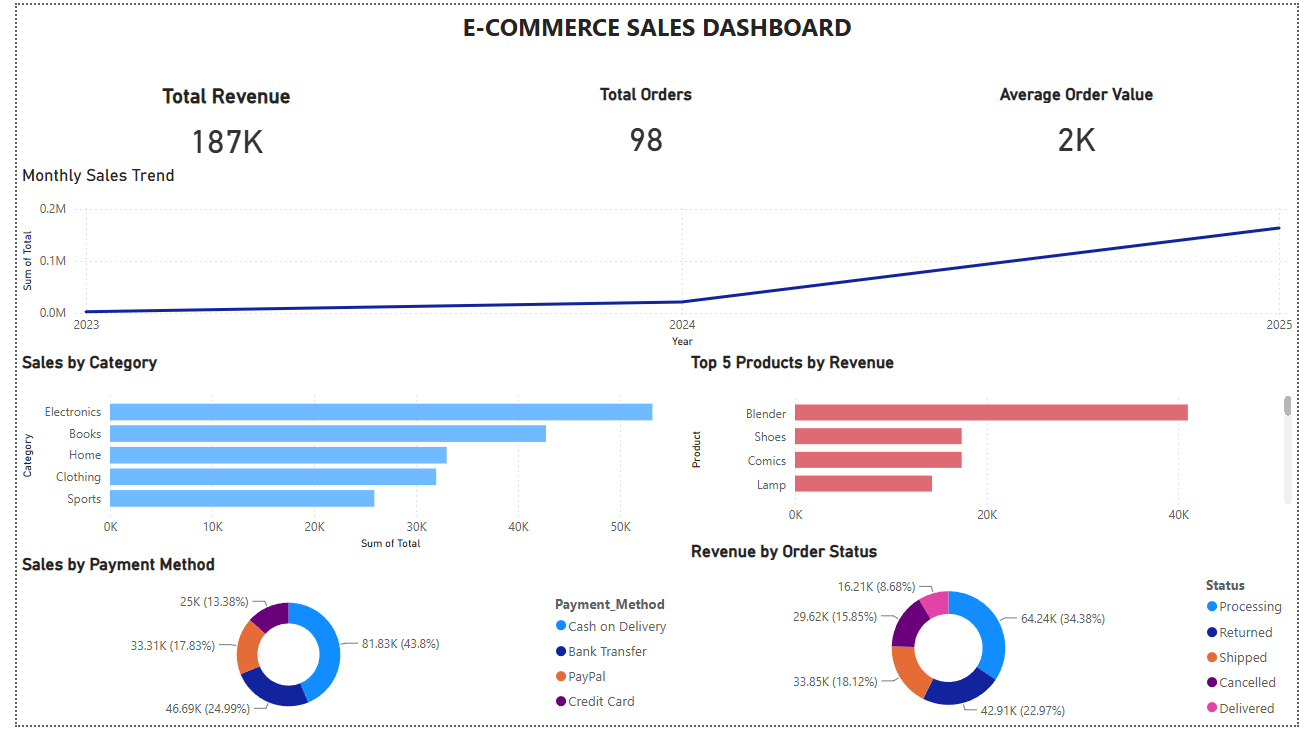

Layout of this report page (visuals, bound fields, positions):
{"tool":"powerbi","page":{"name":"Page 1","canvas":[1280,720],"ordinal":0},"visuals":[{"type":"advanceCardE03760C5AB684758B56AA29F9E6C257B","title":"Total Revenue","fields":{"mainMeasure":["Sum(cleaned_ecommerce_sales_data.Total)"]},"box":[0,78.9,419.4,80.7],"z":0},{"type":"advanceCardE03760C5AB684758B56AA29F9E6C257B","title":"Total Orders","fields":{"mainMeasure":["CountNonNull(cleaned_ecommerce_sales_data.Order_ID)"]},"box":[419.4,78.9,419.4,80.7],"z":1000},{"type":"advanceCardE03760C5AB684758B56AA29F9E6C257B","title":"Average Order Value","fields":{"mainMeasure":["Avg(cleaned_ecommerce_sales_data.Total)"]},"box":[838.8,78.9,441.6,80.7],"z":2000},{"type":"clusteredBarChart","title":"Sales by Category","fields":{"Category":["cleaned_ecommerce_sales_data.Category"],"Y":["Sum(cleaned_ecommerce_sales_data.Total)"]},"box":[0,346.7,668.6,202.2],"z":3000},{"type":"lineChart","title":"Monthly Sales Trend","fields":{"Category":["cleaned_ecommerce_sales_data.Order_Date.Variation.Date Hierarchy.Year","cleaned_ecommerce_sales_data.Order_Date.Variation.Date Hierarchy.Quarter","cleaned_ecommerce_sales_data.Order_Date.Variation.Date Hierarchy.Month","cleaned_ecommerce_sales_data.Order_Date.Variation.Date Hierarchy.Day"],"Y":["Sum(cleaned_ecommerce_sales_data.Total)"]},"box":[0,159.6,1280.4,187.1],"z":4000},{"type":"clusteredBarChart","title":"Top 5 Products by Revenue","fields":{"Category":["cleaned_ecommerce_sales_data.Product"],"Y":["Sum(cleaned_ecommerce_sales_data.Total)"]},"box":[668.6,346.7,611.8,180.9],"z":5000},{"type":"donutChart","title":"Sales  by Payment Method","fields":{"Category":["cleaned_ecommerce_sales_data.Payment_Method"],"Y":["Sum(cleaned_ecommerce_sales_data.Total)"]},"box":[0,548.9,668.6,171.1],"z":6000},{"type":"donutChart","title":"Revenue by Order  Status","fields":{"Category":["cleaned_ecommerce_sales_data.Status"],"Y":["Sum(cleaned_ecommerce_sales_data.Total)"]},"box":[668.6,535.6,611.8,184.4],"z":7000},{"type":"textbox","box":[0,0,1280.4,78.9],"z":8001}]}

Visuals, with their boxes in screenshot pixels (x1, y1, x2, y2), scaled from the page's 1280x720 canvas onto the 1314x733 screenshot:
"Total Revenue" advanceCardE03760C5AB684758B56AA29F9E6C257B: Rect(0, 80, 431, 162)
"Total Orders" advanceCardE03760C5AB684758B56AA29F9E6C257B: Rect(431, 80, 861, 162)
"Average Order Value" advanceCardE03760C5AB684758B56AA29F9E6C257B: Rect(861, 80, 1313, 162)
"Sales by Category" clusteredBarChart: Rect(0, 353, 686, 559)
"Monthly Sales Trend" lineChart: Rect(0, 162, 1313, 353)
"Top 5 Products by Revenue" clusteredBarChart: Rect(686, 353, 1313, 537)
"Sales  by Payment Method" donutChart: Rect(0, 559, 686, 732)
"Revenue by Order  Status" donutChart: Rect(686, 545, 1313, 732)
textbox: Rect(0, 0, 1313, 80)
